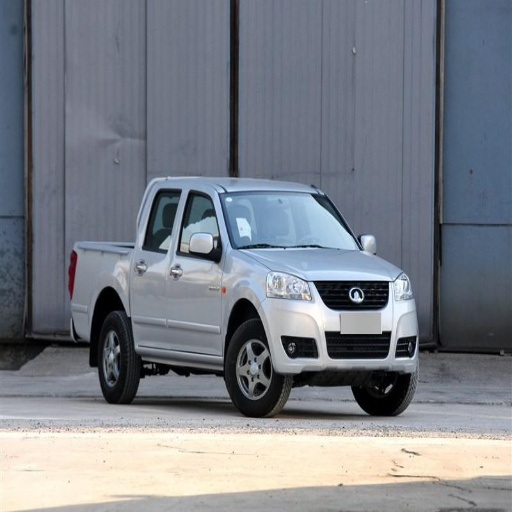back_right_door: (131, 189, 186, 347)
front_bumper: (264, 280, 417, 372)
front_right_door: (167, 190, 222, 354)
front_right_light: (266, 271, 314, 301)
hood: (241, 250, 398, 280)
trunk: (52, 246, 131, 340)
